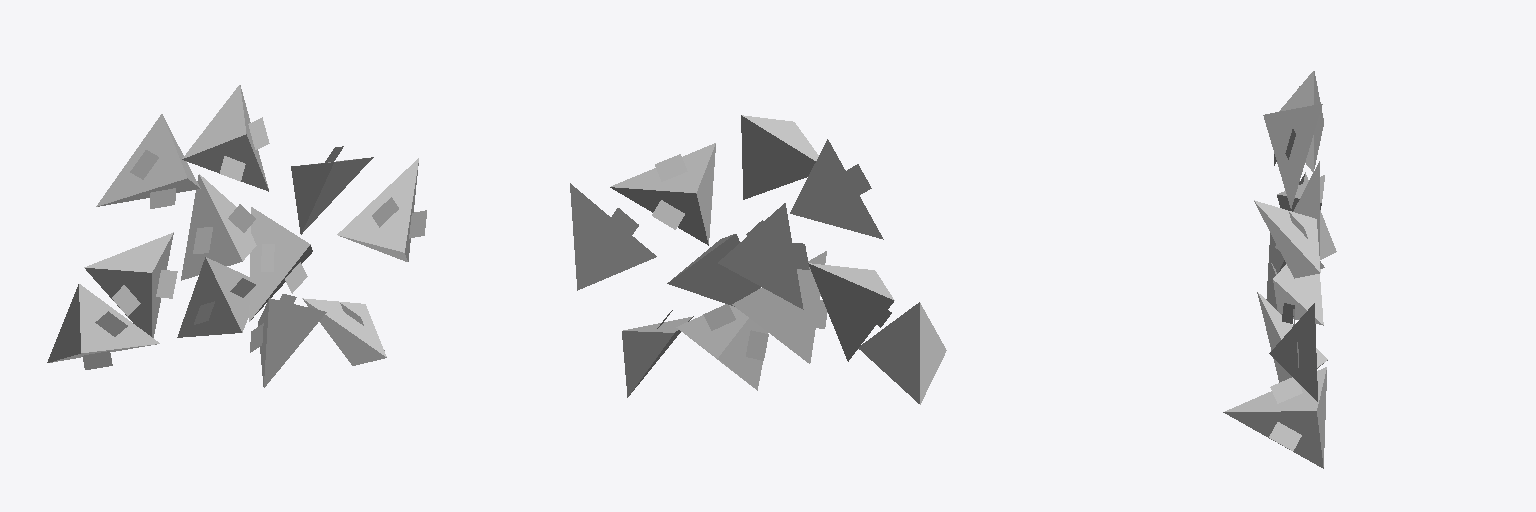
File: flyDead.obj
3 renders of one model, left to right at view 1: azimuth 30°, elevation 25°; view 2: azimuth 150°, elevation 25°; view 3: azimuth 270°, elevation 25°, orthographic.
Visible parts, largest first — view 1: Object.5, Object.7, Object.6, Object.8, Object.11, Object.1, Object.10, Object.9, Object.2, Object.4, Object.3; view 2: Object.4, Object.1, Object.7, Object.5, Object.6, Object.11, Object.8, Object.10, Object.2, Object.9, Object.3; view 3: Object.3, Object.7, Object.4, Object.1, Object.9, Object.8, Object.2, Object.11, Object.10.
Part boxes in pixels (x1,y1,x2,y2): Object.5: (84,232,177,337); Object.7: (182,85,269,191); Object.6: (47,284,159,369); Object.8: (96,114,200,208); Object.11: (181,174,256,280); Object.1: (337,158,426,261); Object.10: (177,257,255,337); Object.9: (249,207,312,321); Object.2: (250,294,326,387); Object.4: (291,146,373,234); Object.3: (302,298,386,365); Object.4: (610,143,715,245); Object.1: (570,183,656,290); Object.7: (741,115,818,199); Object.5: (808,263,894,361); Object.6: (858,302,946,404); Object.11: (718,203,809,309); Object.8: (790,139,883,239); Object.10: (732,251,827,363); Object.2: (676,304,768,390); Object.9: (667,234,760,306); Object.3: (622,310,693,397); Object.3: (1223,367,1326,468); Object.7: (1263,104,1322,208); Object.4: (1254,200,1324,278); Object.1: (1269,303,1317,401); Object.9: (1273,260,1323,325); Object.8: (1279,71,1323,172); Object.2: (1257,292,1327,382); Object.11: (1275,161,1319,255); Object.10: (1266,233,1283,310).
Bounding box in the file's own units: 80.61 × 66.13 × 22.